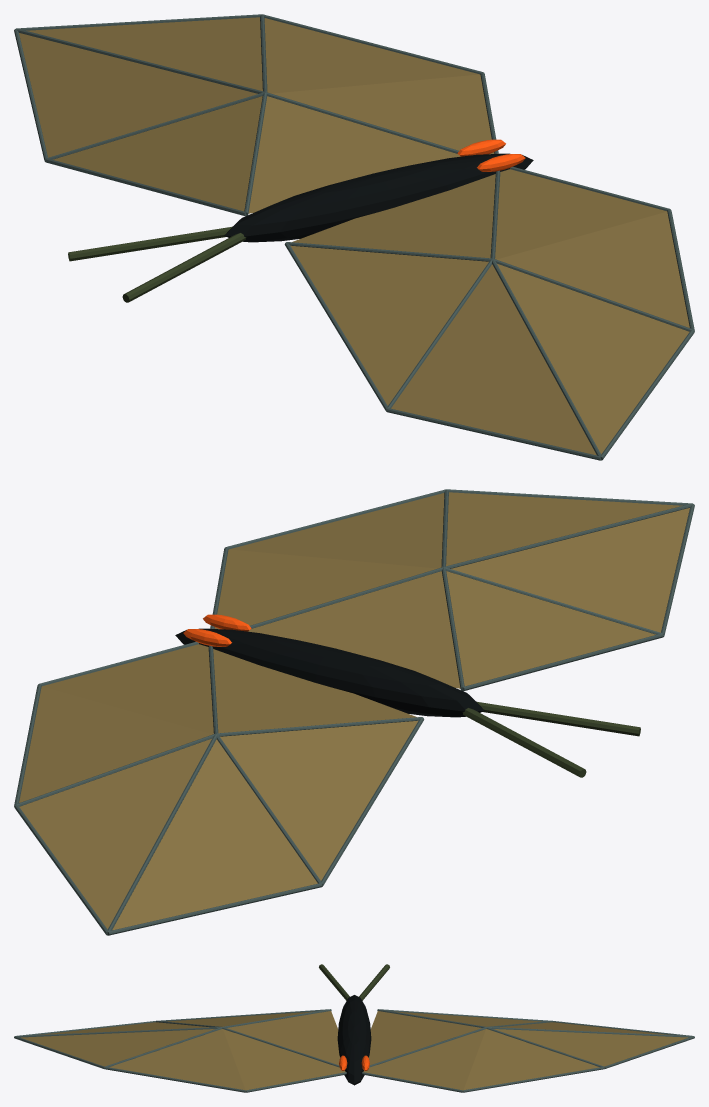
The model's file is SM_MP_Light_Sail_Ray.fbx.
3 renders of one model, top to bottom at view 1: azimuth 30°, elevation 25°; view 2: azimuth 150°, elevation 25°; view 3: azimuth 270°, elevation 25°, orthographic. The views are drawn at different scales.
Parts seen in each view (by area): view 1: SM_MP_Light_Sail_Ray; view 2: SM_MP_Light_Sail_Ray; view 3: SM_MP_Light_Sail_Ray.
Part boxes in pixels (x1,y1,x2,y2): SM_MP_Light_Sail_Ray: (14, 14, 694, 460); SM_MP_Light_Sail_Ray: (14, 489, 694, 935); SM_MP_Light_Sail_Ray: (14, 964, 694, 1092).
Bounding box in the file's own units: 684 × 1444 × 98.58.
Materials: 1 (1 with a texture image).
